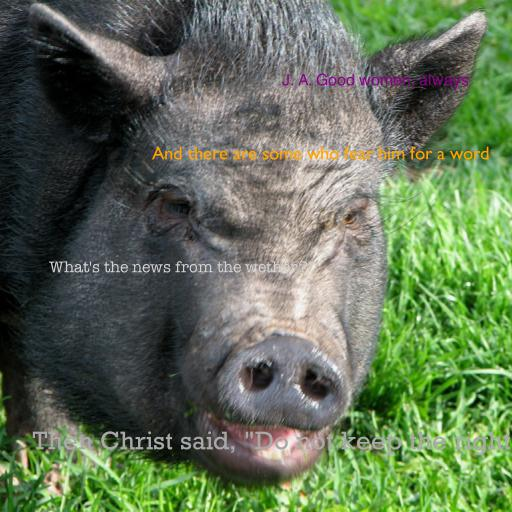American Typewriter: (48, 261, 308, 273)
Gill Sans: (152, 146, 490, 160)
Rockwell: (31, 431, 511, 456)
SF Pro: (281, 73, 469, 89)
